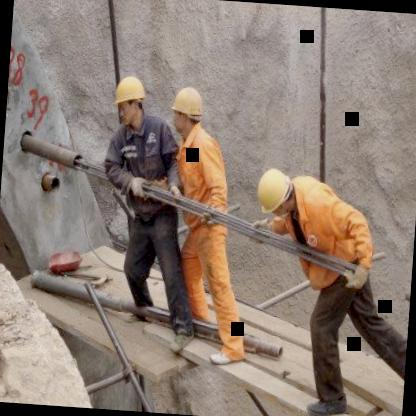helmet: (253, 164, 298, 223), (110, 72, 148, 131), (169, 81, 207, 139)
